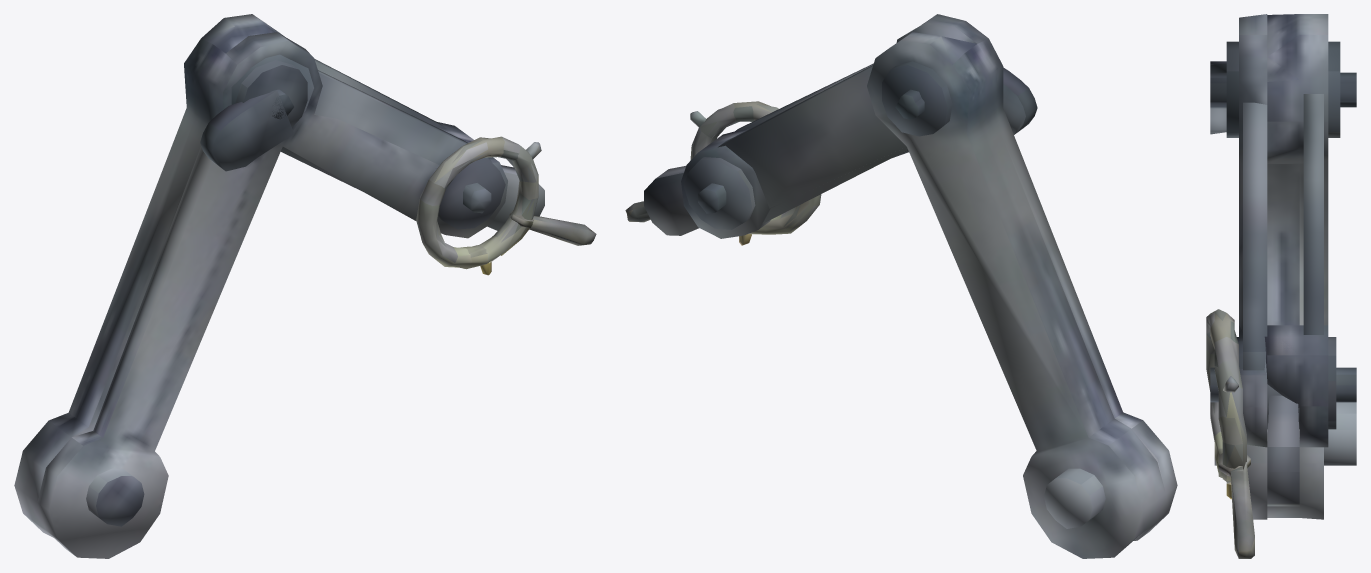
Rendered from 整備庫_07_機械臂B.glb.
3 renders of one model, left to right at view 1: azimuth 30°, elevation 25°; view 2: azimuth 150°, elevation 25°; view 3: azimuth 270°, elevation 25°, orthographic. The views are drawn at different scales.
Parts seen in each view (by area): view 1: 07_機械臂B; view 2: 07_機械臂B; view 3: 07_機械臂B.
Boxes of the visible parts, x1,y1,x2,y2 form: 07_機械臂B: (14,14,596,558); 07_機械臂B: (625,14,1177,558); 07_機械臂B: (1206,14,1356,558).
Bounding box in the file's own units: 0.0938 × 0.0781 × 0.0181.
Materials: 1 (1 with a texture image).
